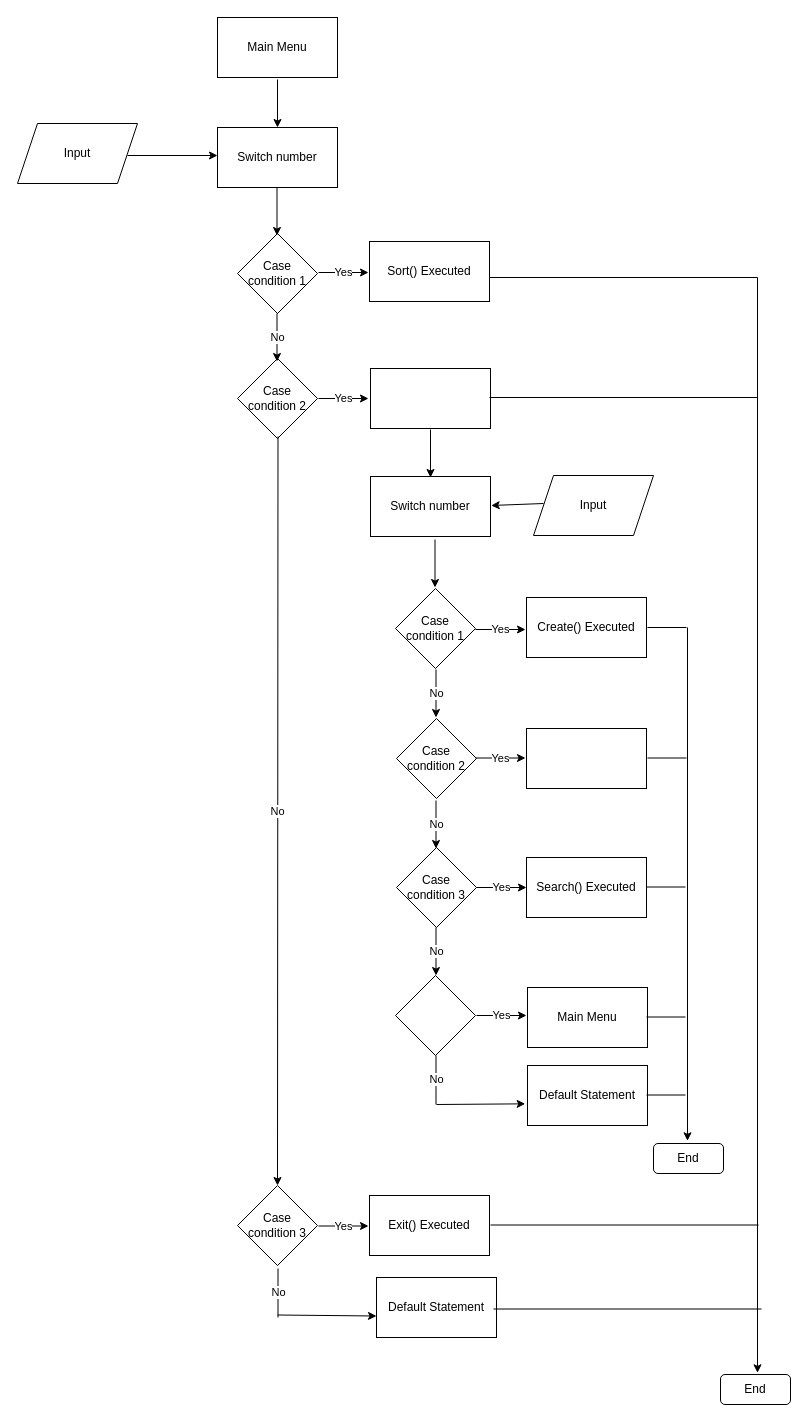
Some shapes in this 808 by 1422 pixel diagram are drawn without their labels. The shapes that lost their labels are listed below. From the top down, each one's centre as x and y in pixels, then its label:
At point (430, 398): "User Interface Menu".
At point (586, 758): "Delete() Executed".
At point (435, 1015): "Case condition 4".
